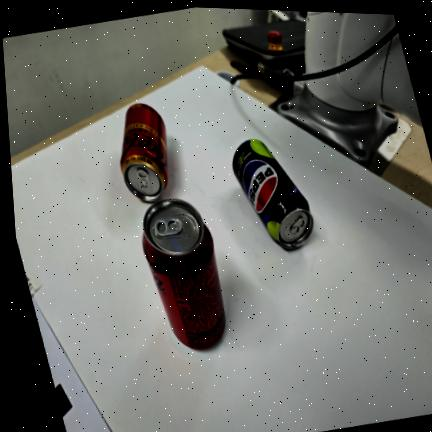can_coke_decaf: (121, 103, 168, 202)
can_coke_zero: (143, 199, 225, 349)
can_pepsi_zero: (233, 139, 313, 249)
